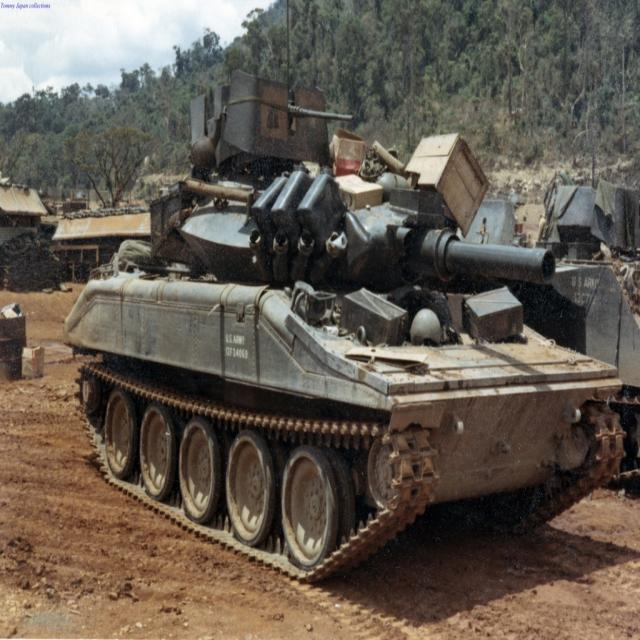tank: (67, 0, 627, 582)
